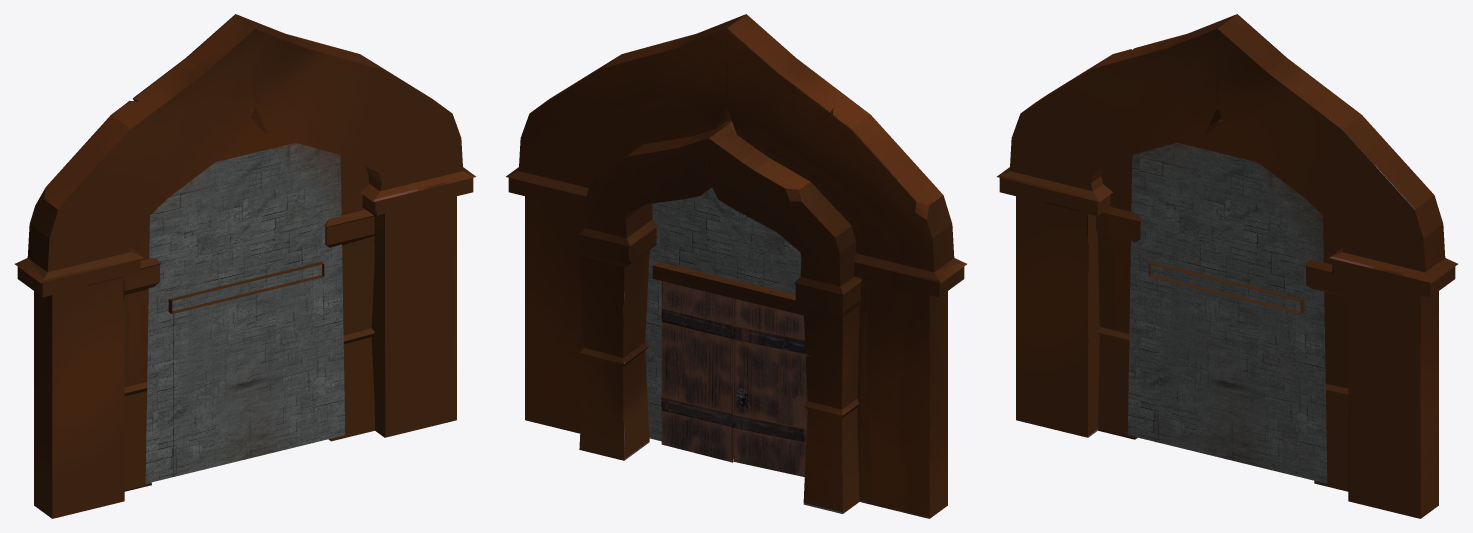
The model's file is dungeonGate.glb.
The picture shows the model from 3 angles, left to right: view 1: azimuth 30°, elevation 25°; view 2: azimuth 150°, elevation 25°; view 3: azimuth 330°, elevation 25°; orthographic projection.
Visible parts, largest first — view 1: dung; view 2: dung; view 3: dung.
Boxes of the visible parts, box(x1,y1,x2,y2) form: dung: box(15, 14, 475, 518); dung: box(506, 14, 966, 518); dung: box(997, 14, 1457, 518).
Bounding box in the file's own units: 12.09 × 11.7 × 1.98.
Materials: 1 (1 with a texture image).
